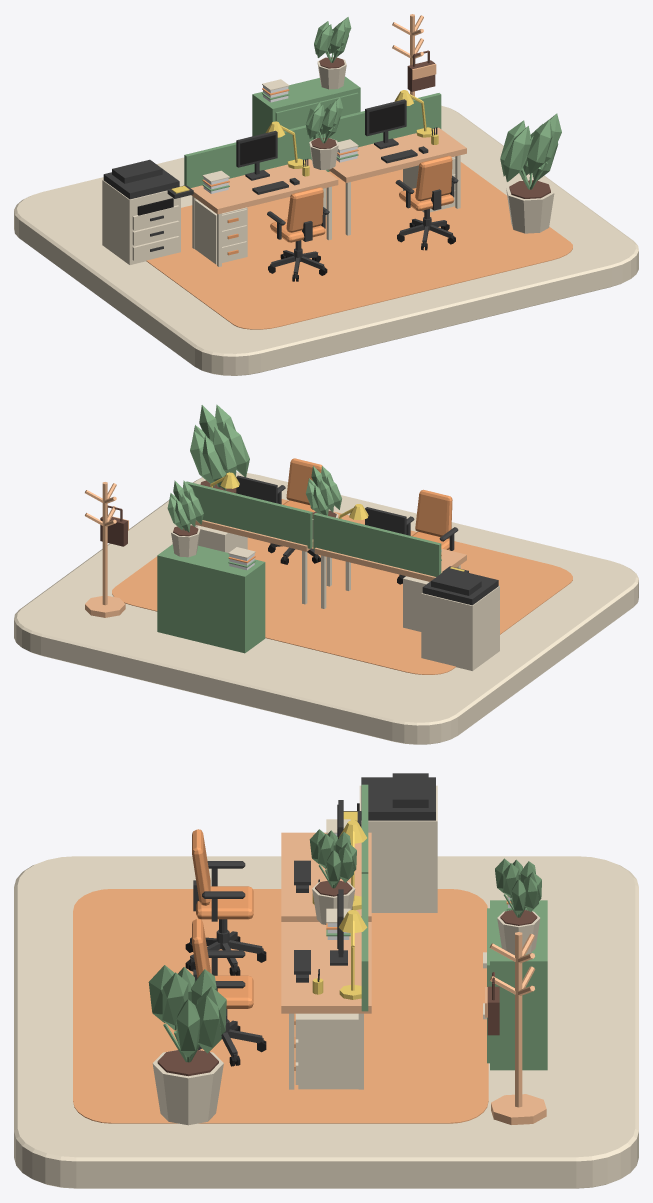
3 renders of one model, top to bottom at view 1: azimuth 30°, elevation 25°; view 2: azimuth 150°, elevation 25°; view 3: azimuth 270°, elevation 25°, orthographic. The views are drawn at different scales.
Visible parts, largest first — view 1: AST-001-0, AST-002-0, AST-009-0, AST-010-2, AST-004-0, AST-004-1, AST-015-0, AST-003-0, AST-003-1, AST-013-0, AST-008-0, AST-013-1 (+9 smaller); view 2: AST-001-0, AST-002-0, AST-015-0, AST-009-0, AST-013-0, AST-013-1, AST-010-2, AST-003-0, AST-010-1, AST-016-0, AST-004-0, AST-003-1 (+8 smaller); view 3: AST-001-0, AST-002-0, AST-009-0, AST-010-2, AST-004-1, AST-015-0, AST-008-1, AST-003-0, AST-016-0, AST-004-0, AST-003-1, AST-010-1 (+6 smaller).
Part boxes in pixels (bbox=[...]): AST-001-0: bbox=[14, 105, 638, 375]; AST-002-0: bbox=[146, 162, 572, 329]; AST-009-0: bbox=[102, 159, 193, 264]; AST-010-2: bbox=[500, 113, 561, 233]; AST-004-0: bbox=[191, 159, 338, 266]; AST-004-1: bbox=[323, 127, 466, 235]; AST-015-0: bbox=[252, 76, 360, 171]; AST-003-0: bbox=[267, 187, 329, 281]; AST-003-1: bbox=[395, 155, 458, 250]; AST-013-0: bbox=[184, 125, 312, 187]; AST-008-0: bbox=[194, 199, 247, 264]; AST-013-1: bbox=[313, 93, 441, 147]; AST-001-0: bbox=[14, 472, 638, 744]; AST-002-0: bbox=[112, 499, 572, 674]; AST-015-0: bbox=[157, 544, 265, 653]; AST-009-0: bbox=[421, 566, 499, 670]; AST-013-0: bbox=[313, 513, 441, 576]; AST-013-1: bbox=[186, 481, 312, 548]; AST-010-2: bbox=[190, 404, 249, 493]; AST-003-0: bbox=[397, 489, 458, 584]; AST-010-1: bbox=[167, 480, 203, 557]; AST-016-0: bbox=[85, 482, 125, 617]; AST-004-0: bbox=[314, 547, 466, 608]; AST-003-1: bbox=[268, 458, 322, 564]; AST-001-0: bbox=[14, 856, 638, 1188]; AST-002-0: bbox=[73, 889, 488, 1123]; AST-009-0: bbox=[343, 773, 437, 912]; AST-010-2: bbox=[148, 965, 226, 1125]; AST-004-1: bbox=[281, 922, 371, 1089]; AST-015-0: bbox=[483, 900, 547, 1070]; AST-008-1: bbox=[294, 1013, 358, 1089]; AST-003-0: bbox=[185, 829, 266, 975]; AST-016-0: bbox=[489, 932, 546, 1124]; AST-004-0: bbox=[281, 832, 371, 921]; AST-003-1: bbox=[192, 918, 266, 1066]; AST-010-1: bbox=[495, 858, 541, 954].
Size of the model in its own units: 6 by 2.16 by 5.2.
1 material, 1 textured.
